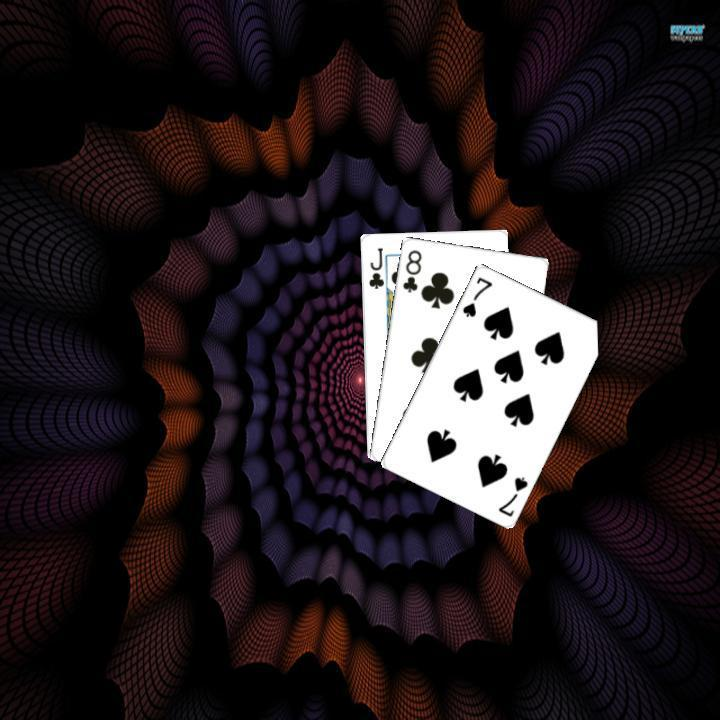7: (493, 472, 530, 519), (458, 272, 494, 319)
8: (398, 245, 423, 294)
J: (364, 243, 385, 290)
